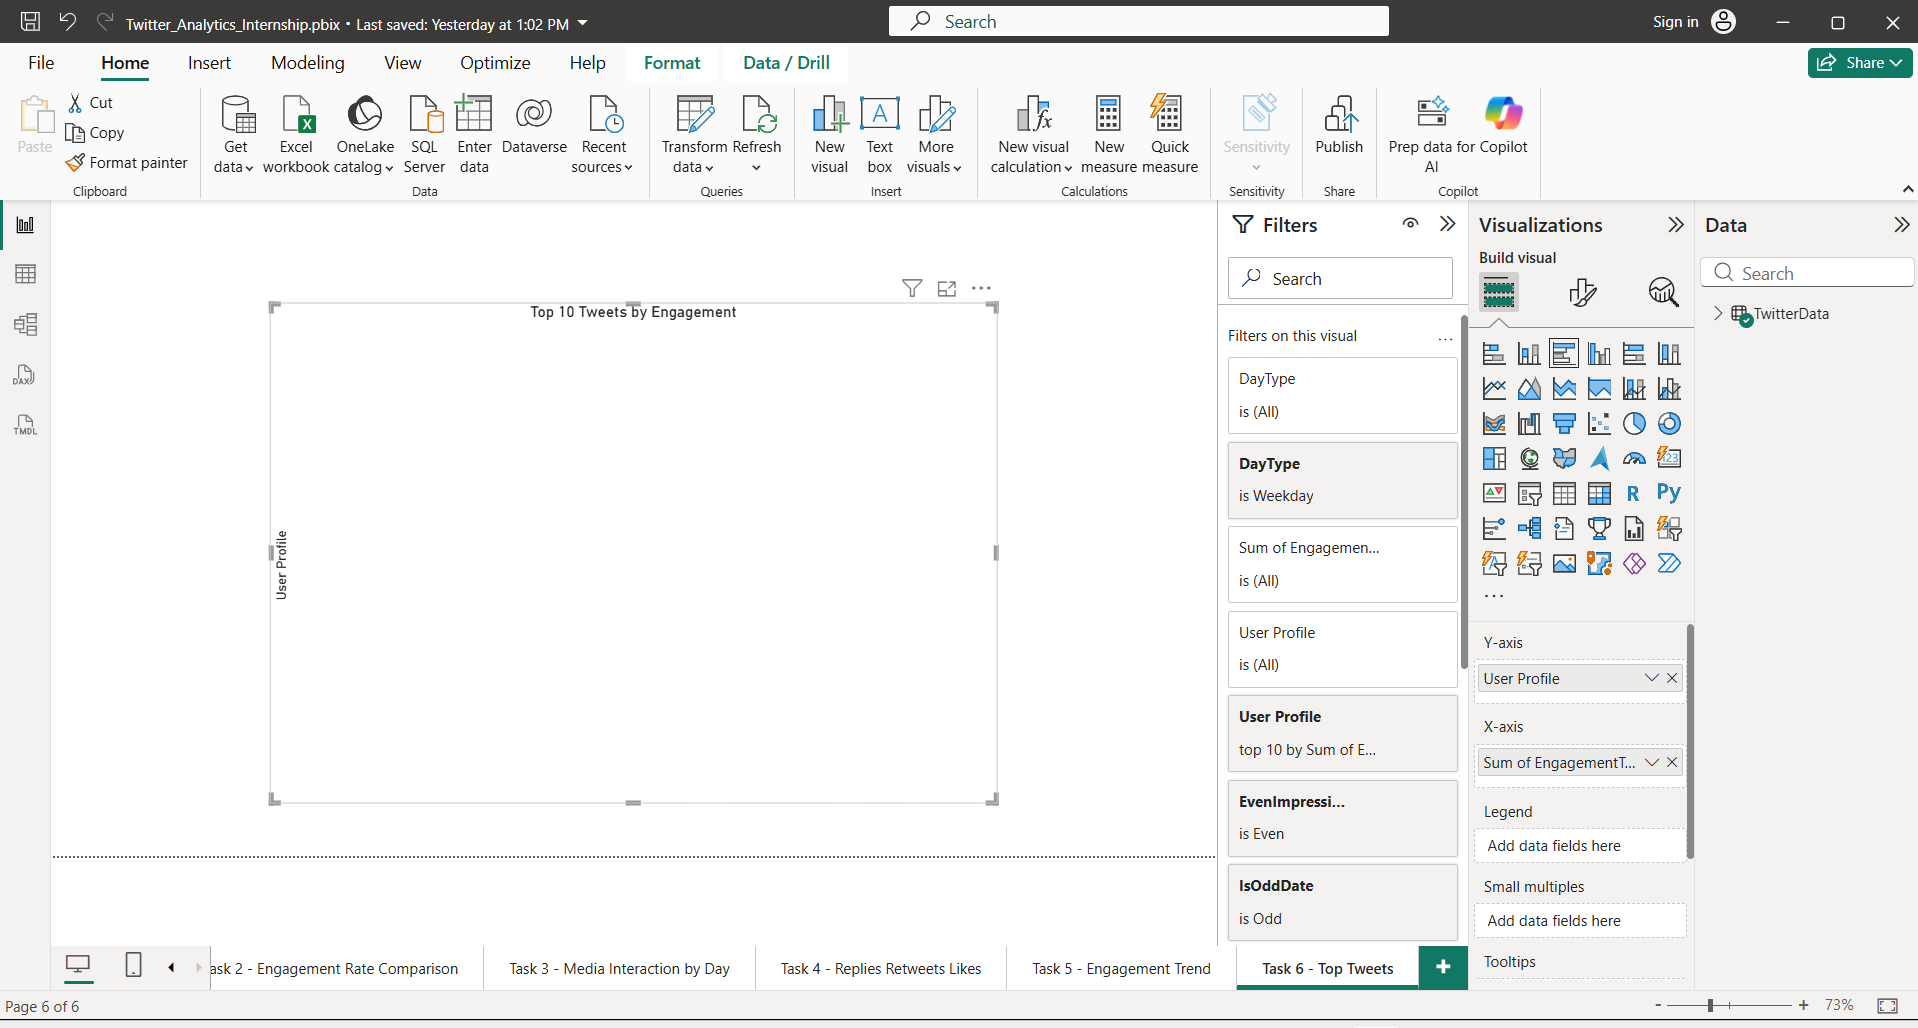

Layout of this report page (visuals, bound fields, positions):
{"tool":"powerbi","page":{"name":"Task 6 - Top Tweets","canvas":[1280,720],"ordinal":5},"visuals":[{"type":"clusteredBarChart","title":"Top 10 Tweets by Engagement","fields":{"Category":["TwitterData.User Profile"],"Y":["Sum(TwitterData.EngagementTotal)"]},"box":[115.6,36.7,797.8,551.1],"z":0}]}

Visuals, with their boxes on the page's 1280x720 design canvas (x1, y1, x2, y2). These are canvas units, not pixel positions in the 1918x1028 screenshot, which may show the page scaled, cropped or inside an application window:
"Top 10 Tweets by Engagement" clusteredBarChart: box=[116, 37, 913, 588]
